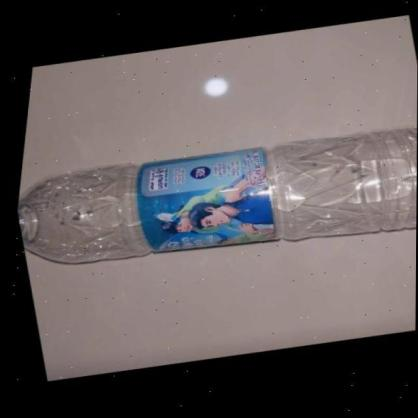bottle: (19, 125, 417, 264)
label: (139, 150, 278, 254)
